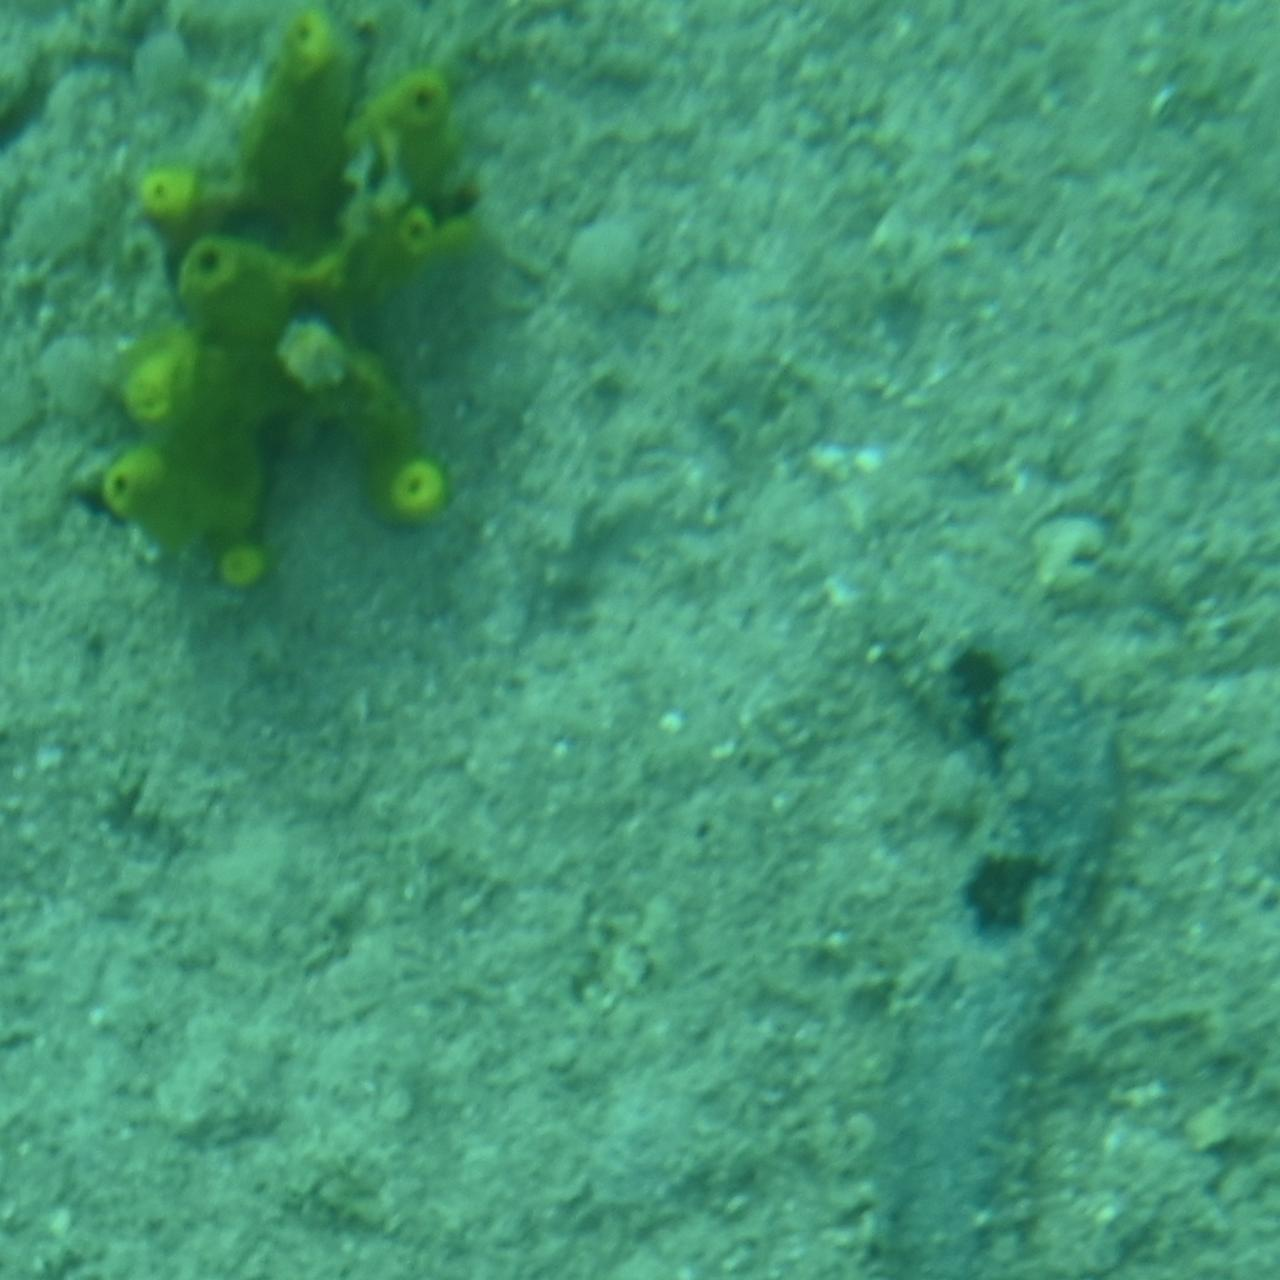Aplysina aerophoba: (43, 0, 529, 617)
Holothuria tubulosa: (837, 563, 1153, 1280)
